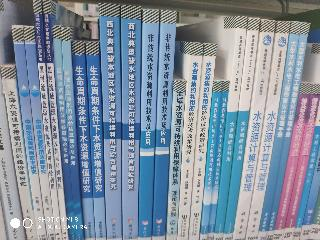book-spine: (245, 20, 290, 240), (232, 20, 275, 240), (258, 22, 301, 239), (266, 23, 309, 240), (222, 18, 259, 239), (213, 17, 247, 240), (13, 26, 47, 239), (34, 1, 62, 239), (24, 27, 54, 240), (1, 66, 36, 240), (273, 83, 311, 240), (43, 2, 68, 240), (282, 85, 320, 240), (150, 11, 175, 239), (176, 43, 203, 240), (189, 45, 215, 239), (136, 11, 158, 239), (61, 28, 84, 240), (101, 5, 121, 239), (53, 27, 75, 239), (122, 7, 141, 239), (73, 42, 95, 238), (87, 44, 105, 239), (200, 82, 221, 240), (208, 82, 228, 239), (167, 83, 184, 239)
